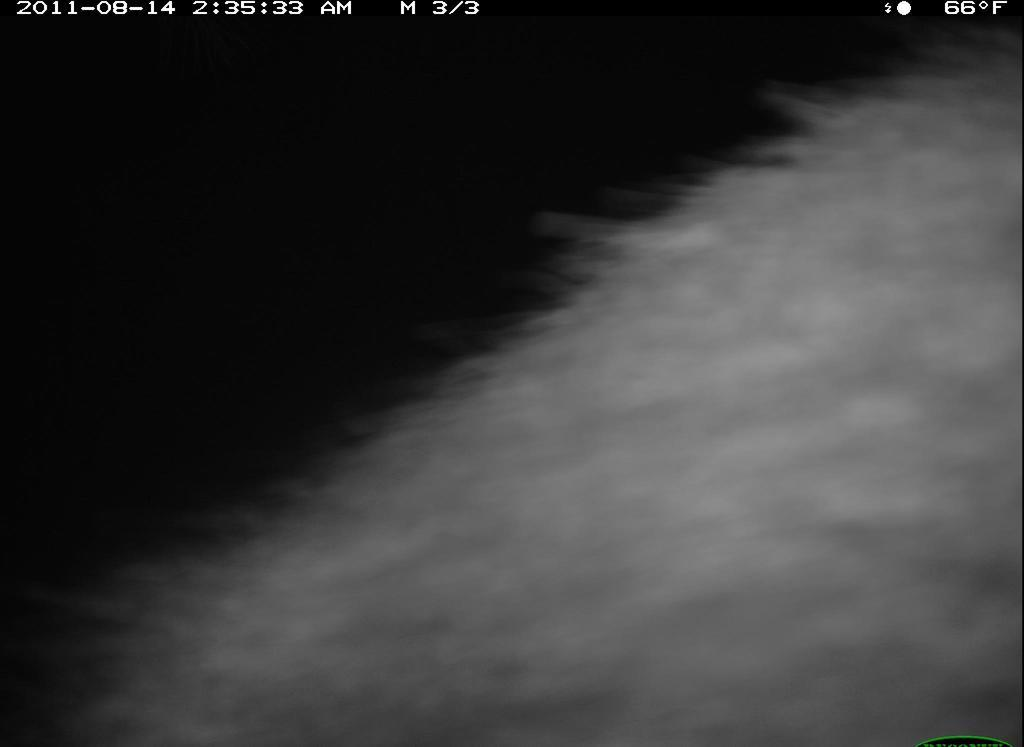raccoon: (9, 16, 1021, 740)
